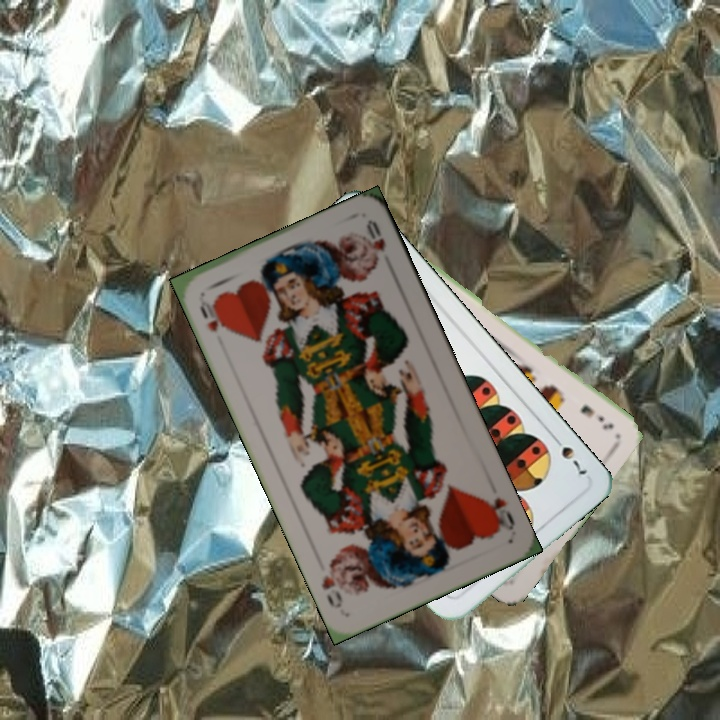E7: (576, 400, 617, 433)
HO: (479, 492, 518, 534), (195, 293, 230, 335)
S7: (547, 430, 590, 481)
